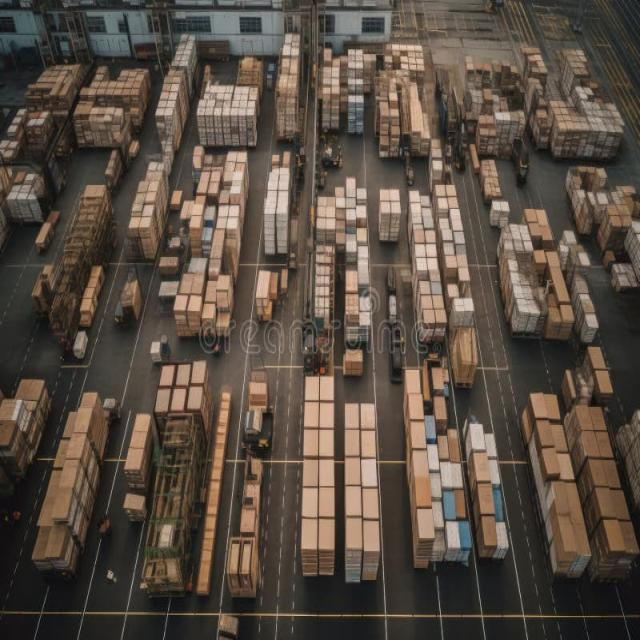box: (415, 510, 437, 547), (128, 428, 151, 452), (125, 454, 146, 480), (366, 520, 382, 554), (362, 491, 381, 519), (483, 516, 497, 554), (346, 519, 362, 551), (416, 482, 435, 508), (303, 458, 319, 488), (302, 523, 318, 553), (321, 523, 336, 554), (318, 460, 334, 489), (346, 489, 362, 518), (362, 457, 377, 487), (361, 431, 377, 459), (346, 430, 361, 459), (481, 485, 496, 513), (406, 369, 421, 396), (475, 454, 490, 481), (346, 462, 362, 487), (303, 492, 318, 518), (361, 404, 377, 428), (305, 377, 320, 402), (412, 423, 426, 449), (472, 425, 485, 453), (320, 492, 335, 516), (136, 412, 152, 434), (305, 430, 318, 457), (191, 386, 204, 413), (305, 402, 319, 427), (321, 402, 335, 427), (414, 456, 428, 481), (321, 375, 334, 401), (193, 360, 207, 384), (321, 431, 334, 456), (126, 496, 144, 514), (156, 387, 169, 411), (175, 367, 189, 388), (346, 404, 359, 426), (161, 366, 175, 385), (174, 391, 188, 410), (410, 401, 424, 419)
